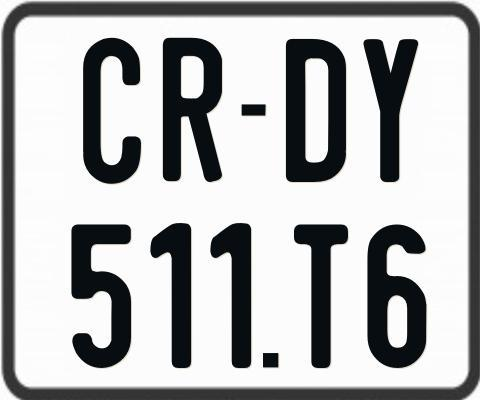1: (148, 220, 195, 369), (210, 222, 254, 368)
5: (70, 222, 130, 371)
6: (364, 225, 427, 373)
C: (82, 37, 145, 188)
D: (283, 36, 344, 185)
R: (162, 36, 224, 181)
T: (291, 225, 348, 374)
Y: (361, 38, 419, 187)
